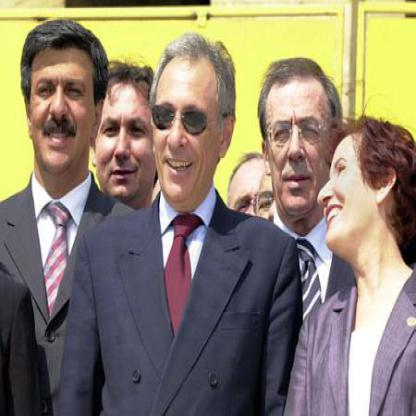face: (152, 47, 223, 208), (264, 65, 332, 217), (28, 26, 95, 176), (315, 119, 382, 256), (93, 72, 159, 203), (228, 157, 285, 265)
